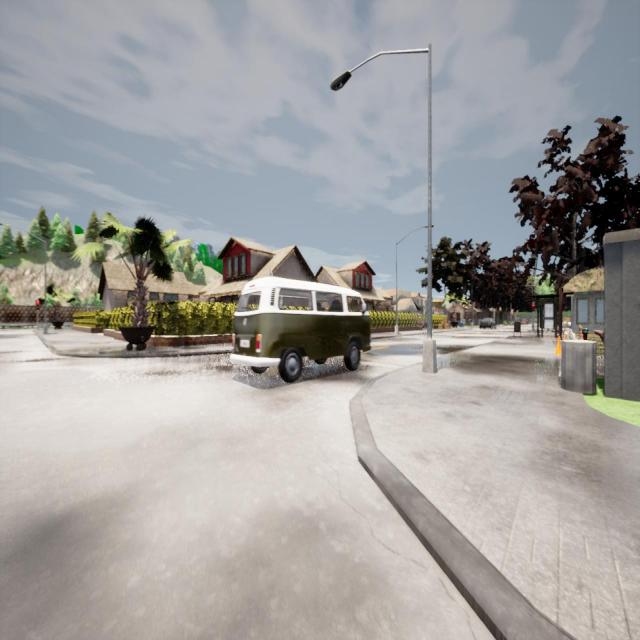Vehicle: (230, 277, 374, 385), (478, 317, 496, 330)
traffic_light: (36, 301, 39, 310), (532, 304, 535, 311)
